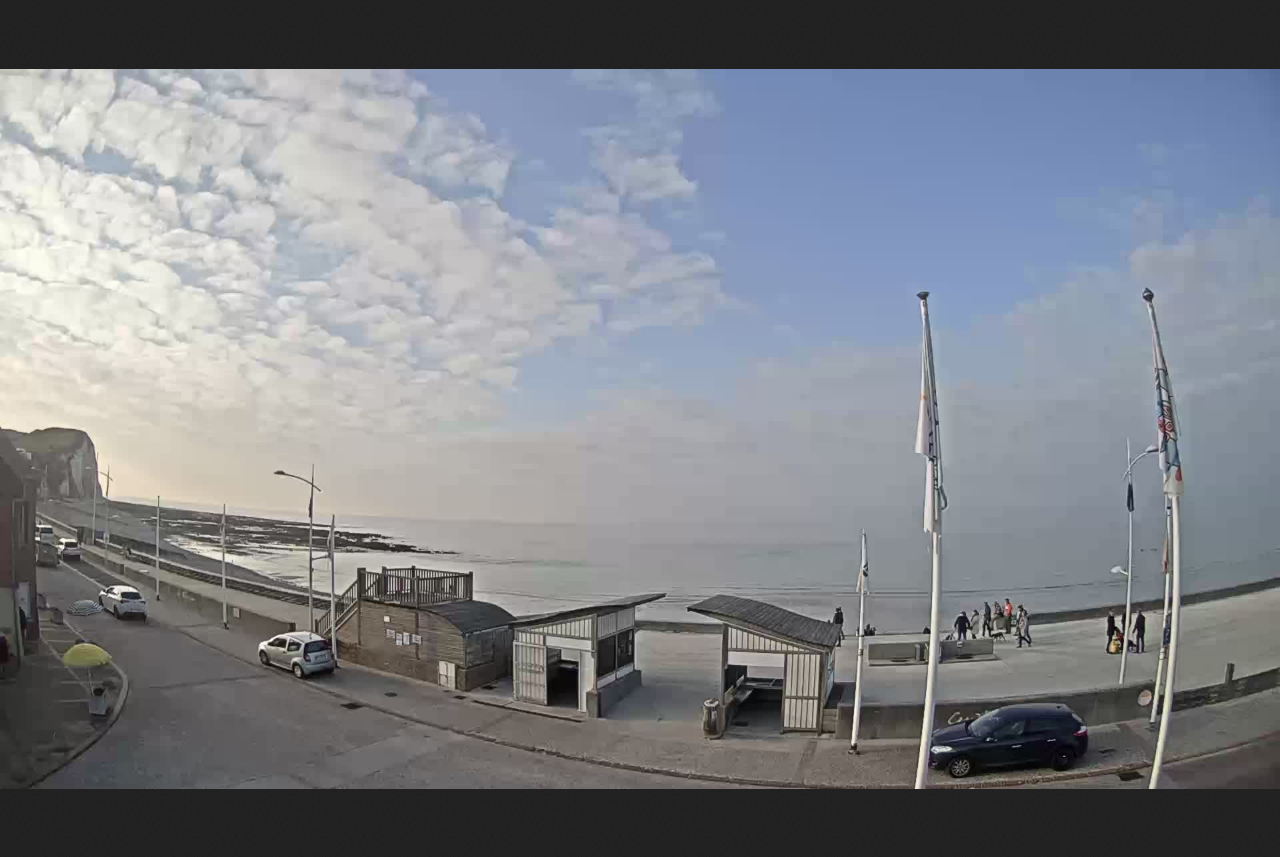no: (903, 284, 954, 545), (1139, 283, 1191, 509)
